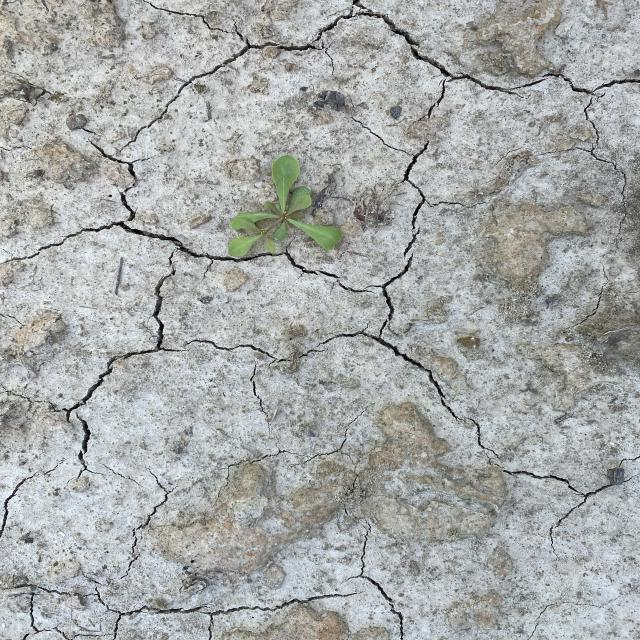Carpetweed: (224, 153, 346, 259)
